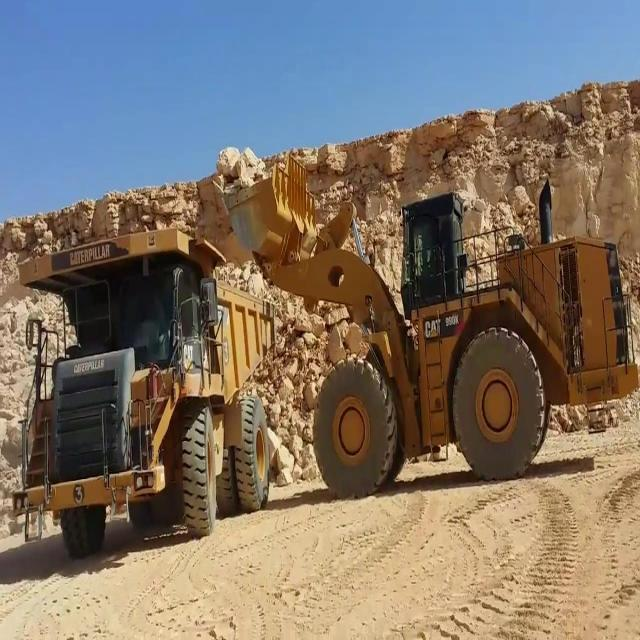Dump Truck: (14, 224, 276, 558)
Loader: (185, 145, 639, 502)
